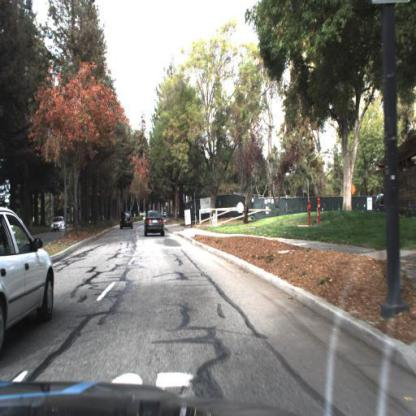car: (1, 204, 57, 350), (145, 210, 165, 237), (120, 212, 134, 234), (50, 217, 67, 233)
